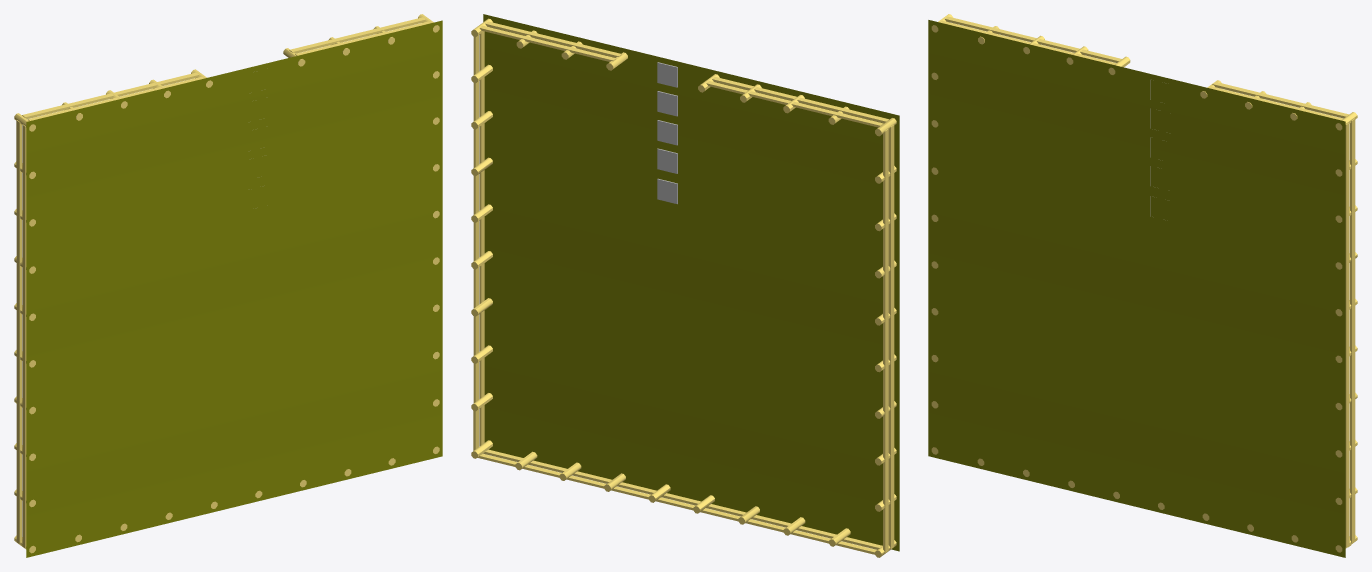
Rendered from L_Housing01.fbx.
The picture shows the model from 3 angles, left to right: view 1: azimuth 30°, elevation 25°; view 2: azimuth 150°, elevation 25°; view 3: azimuth 330°, elevation 25°; orthographic projection.
Parts seen in each view (by area): view 1: land_dh021; view 2: land_dh021; view 3: land_dh021.
Part boxes in pixels (box(x1,y1,x2,y2)): land_dh021: box(14, 14, 442, 557); land_dh021: box(471, 14, 899, 557); land_dh021: box(928, 14, 1357, 557).
Size of the model in its own units: 2000 by 2000 by 128.
